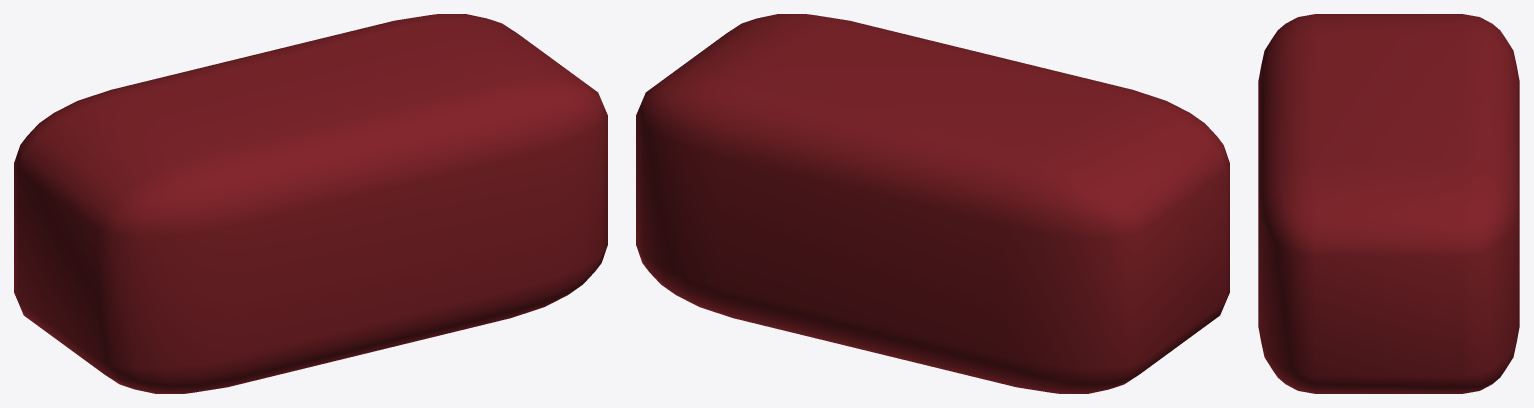
File: pecat.fbx
3 views of the same model, side by side, from view 1: azimuth 30°, elevation 25°; view 2: azimuth 150°, elevation 25°; view 3: azimuth 270°, elevation 25° (orthographic). The views are drawn at different scales.
Visible parts, largest first — view 1: Pandoras box.004; view 2: Pandoras box.004; view 3: Pandoras box.004.
Boxes of the visible parts, x1,y1,x2,y2 form: Pandoras box.004: [14, 14, 607, 393]; Pandoras box.004: [636, 14, 1229, 393]; Pandoras box.004: [1258, 14, 1519, 393].
Size of the model in its own units: 81.41 by 35.6 by 39.85.
